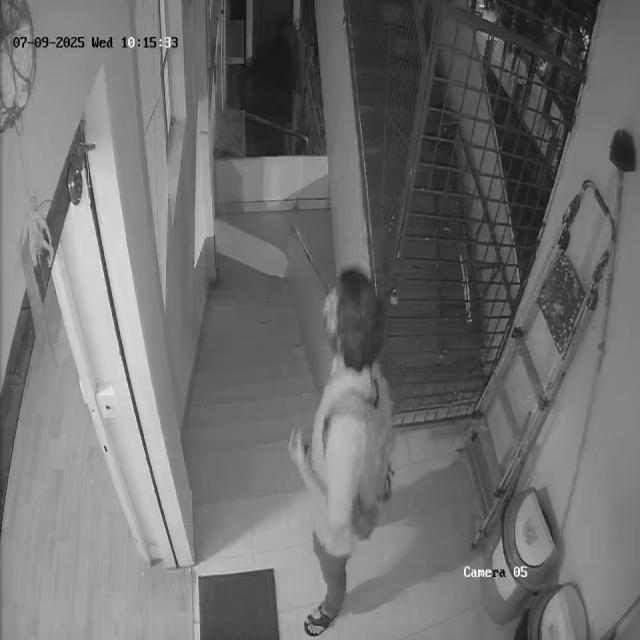person: (286, 264, 396, 632)
